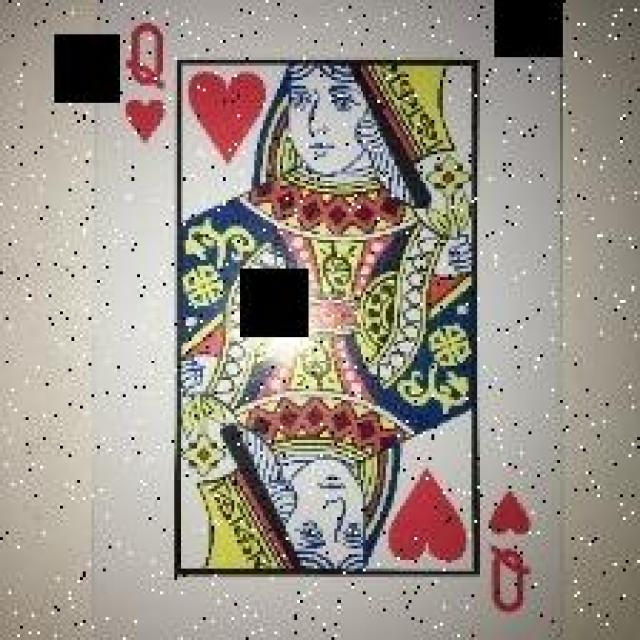Queen of hearts: (94, 3, 563, 637)
